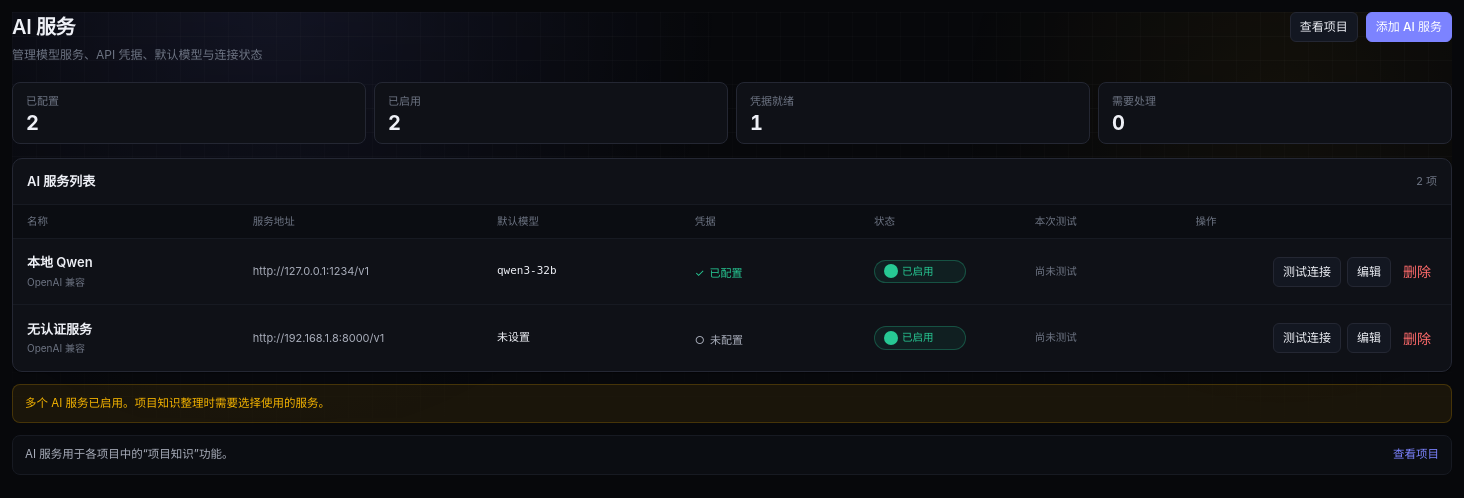
Test: Phase 10.2 AI services › keeps per-row test and toggle states local with stable messages
Expected: the text "本地 Qwen" is shown, [27,254,93,270]
Click the button "测试连接" in the row of "qwen3-32b" at (1307, 272), box [1273,256,1341,286]
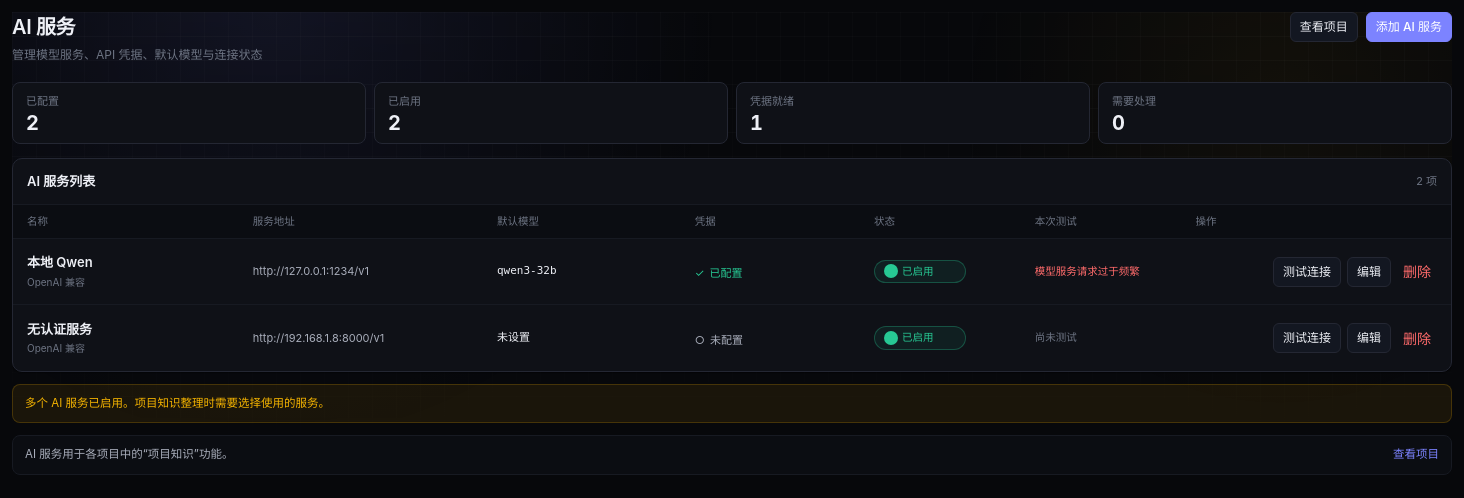
Result: the text "模型服务请求过于频繁" is shown at [1035,265,1140,278]
Click the switch named "无认证服务：停用服务" at (920, 338), box [874,326,966,350]
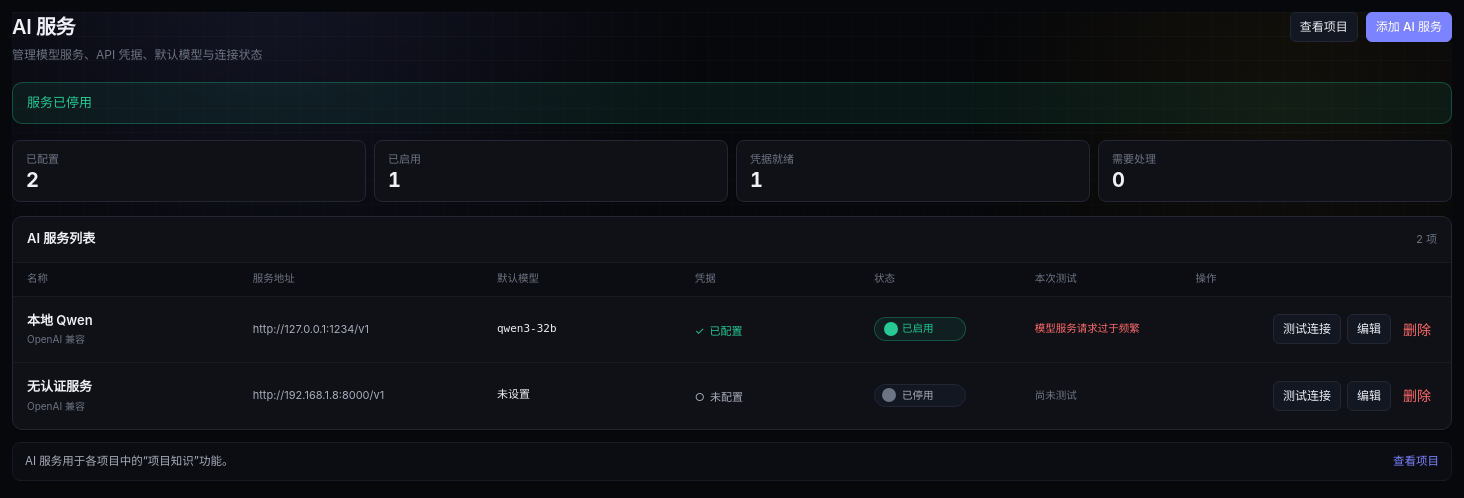
Result: the text "服务已停用" is shown at [12,82,1452,124]
